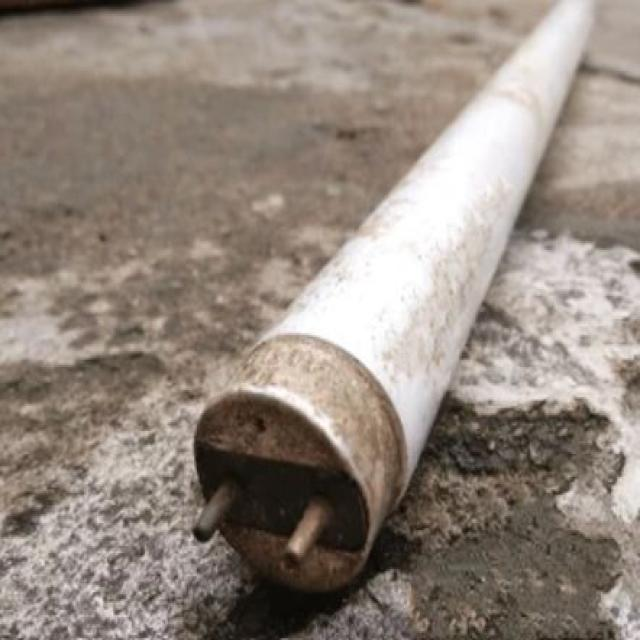electronic: (189, 0, 596, 596)
